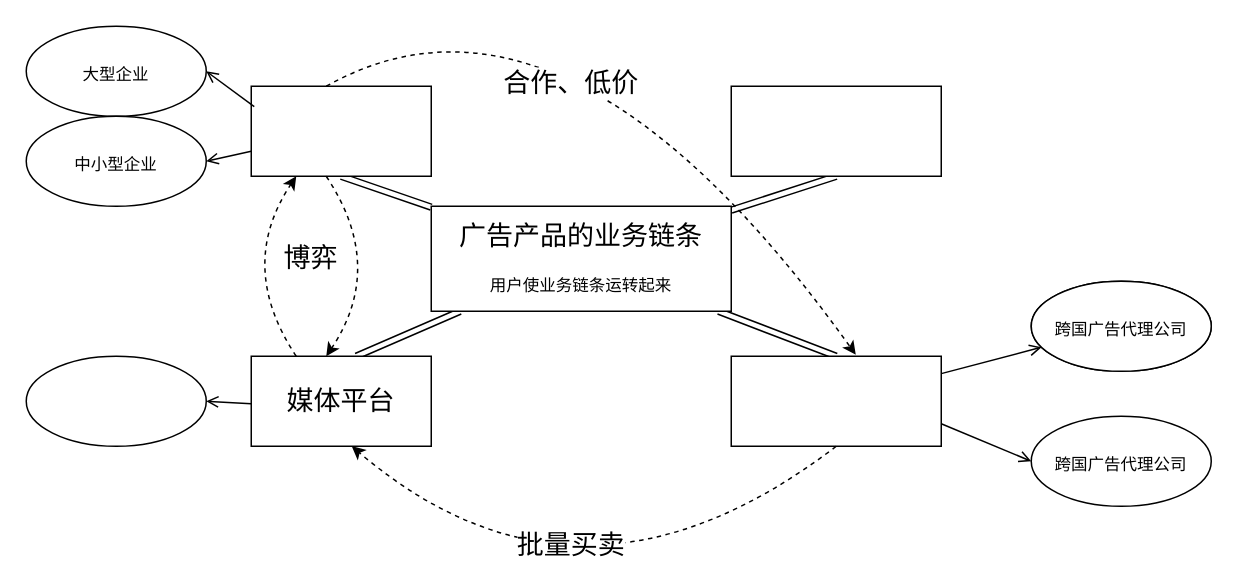
Image size: 1238x588. Some labels were removed from this diagram. Here are the shapes that lost their labels. From the top down, the centre of each, then its label:
At pixel 340 130: "广告主".
At pixel 835 130: "第三方服务平台".
At pixel 115 400: "保证用户体验".
At pixel 835 400: "广告代理公司".
